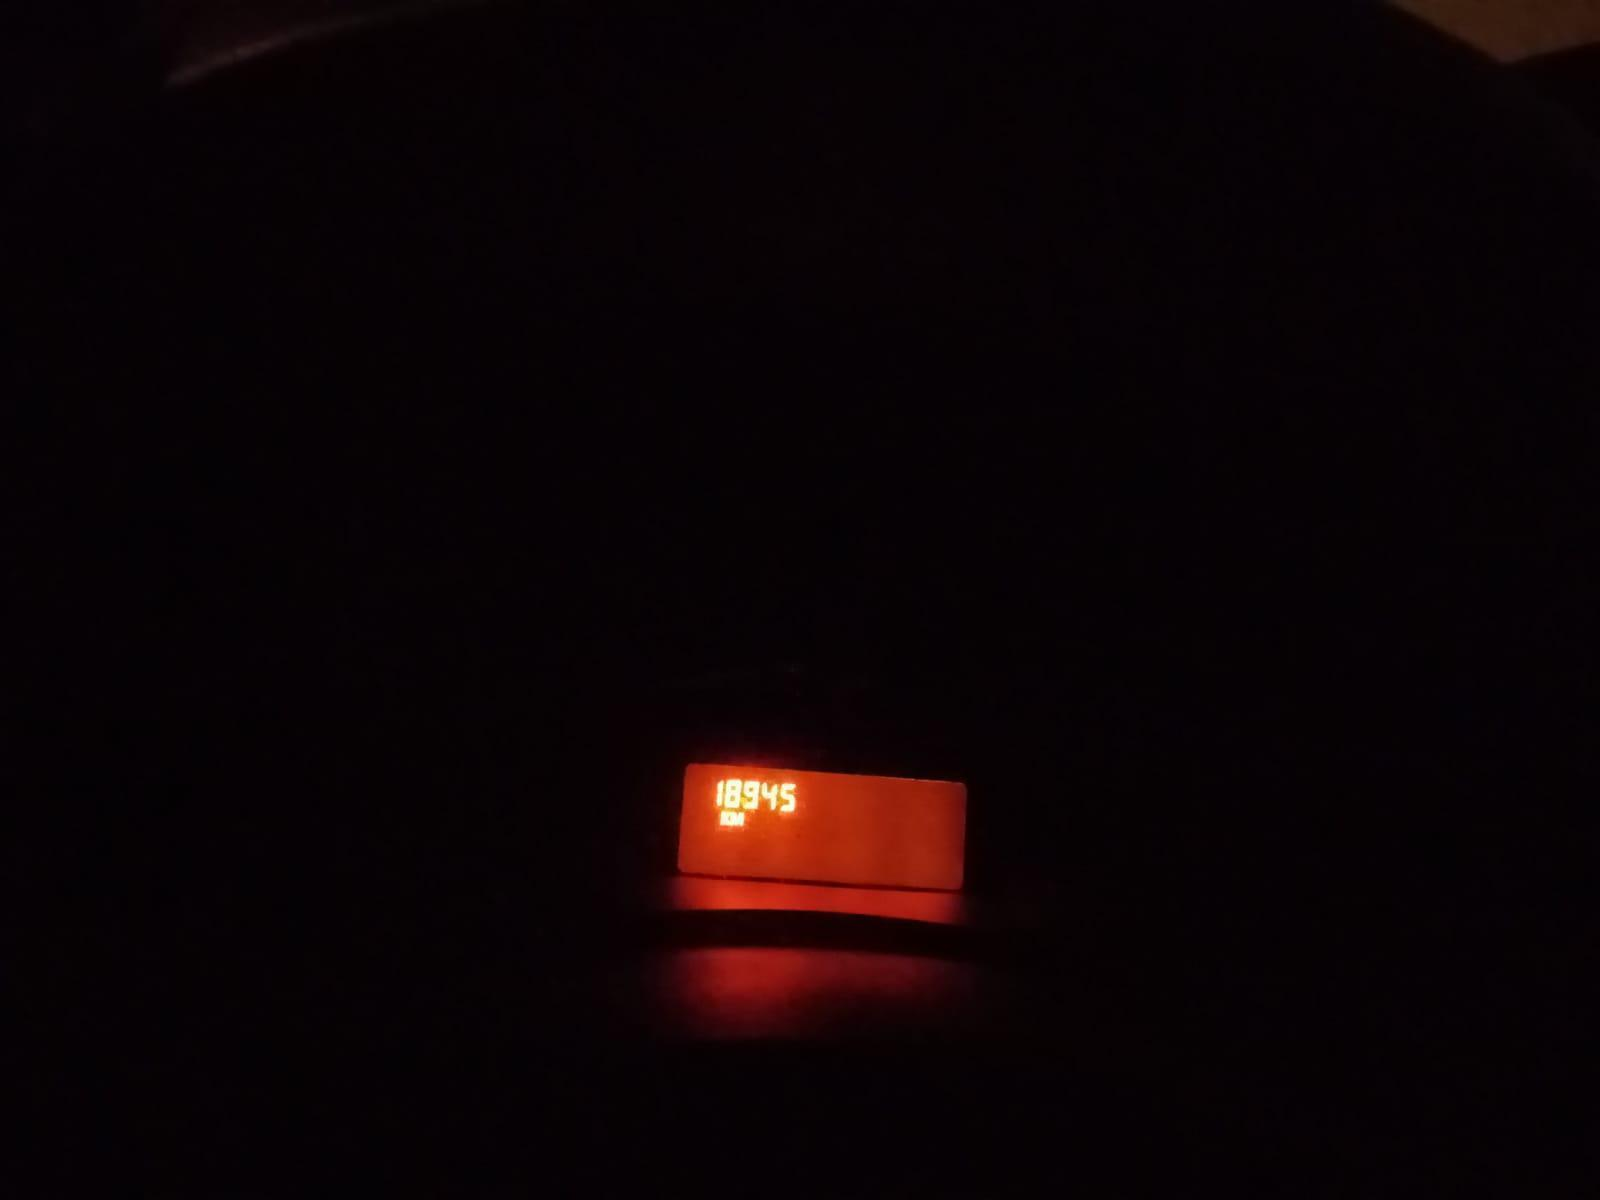1: (714, 776, 722, 811)
4: (760, 780, 777, 811)
5: (780, 782, 797, 813)
8: (724, 776, 741, 811)
9: (743, 780, 758, 811)
X: (729, 811, 745, 828), (721, 811, 729, 828)
odometer: (671, 760, 974, 895)
